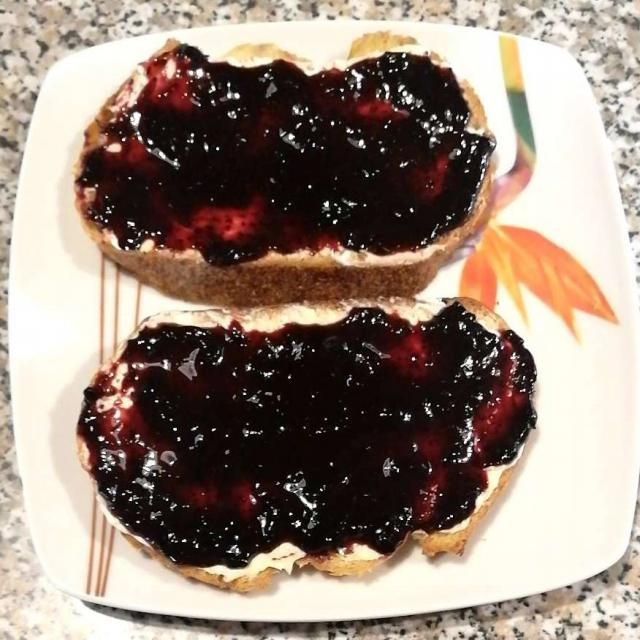jam: (81, 38, 559, 562)
